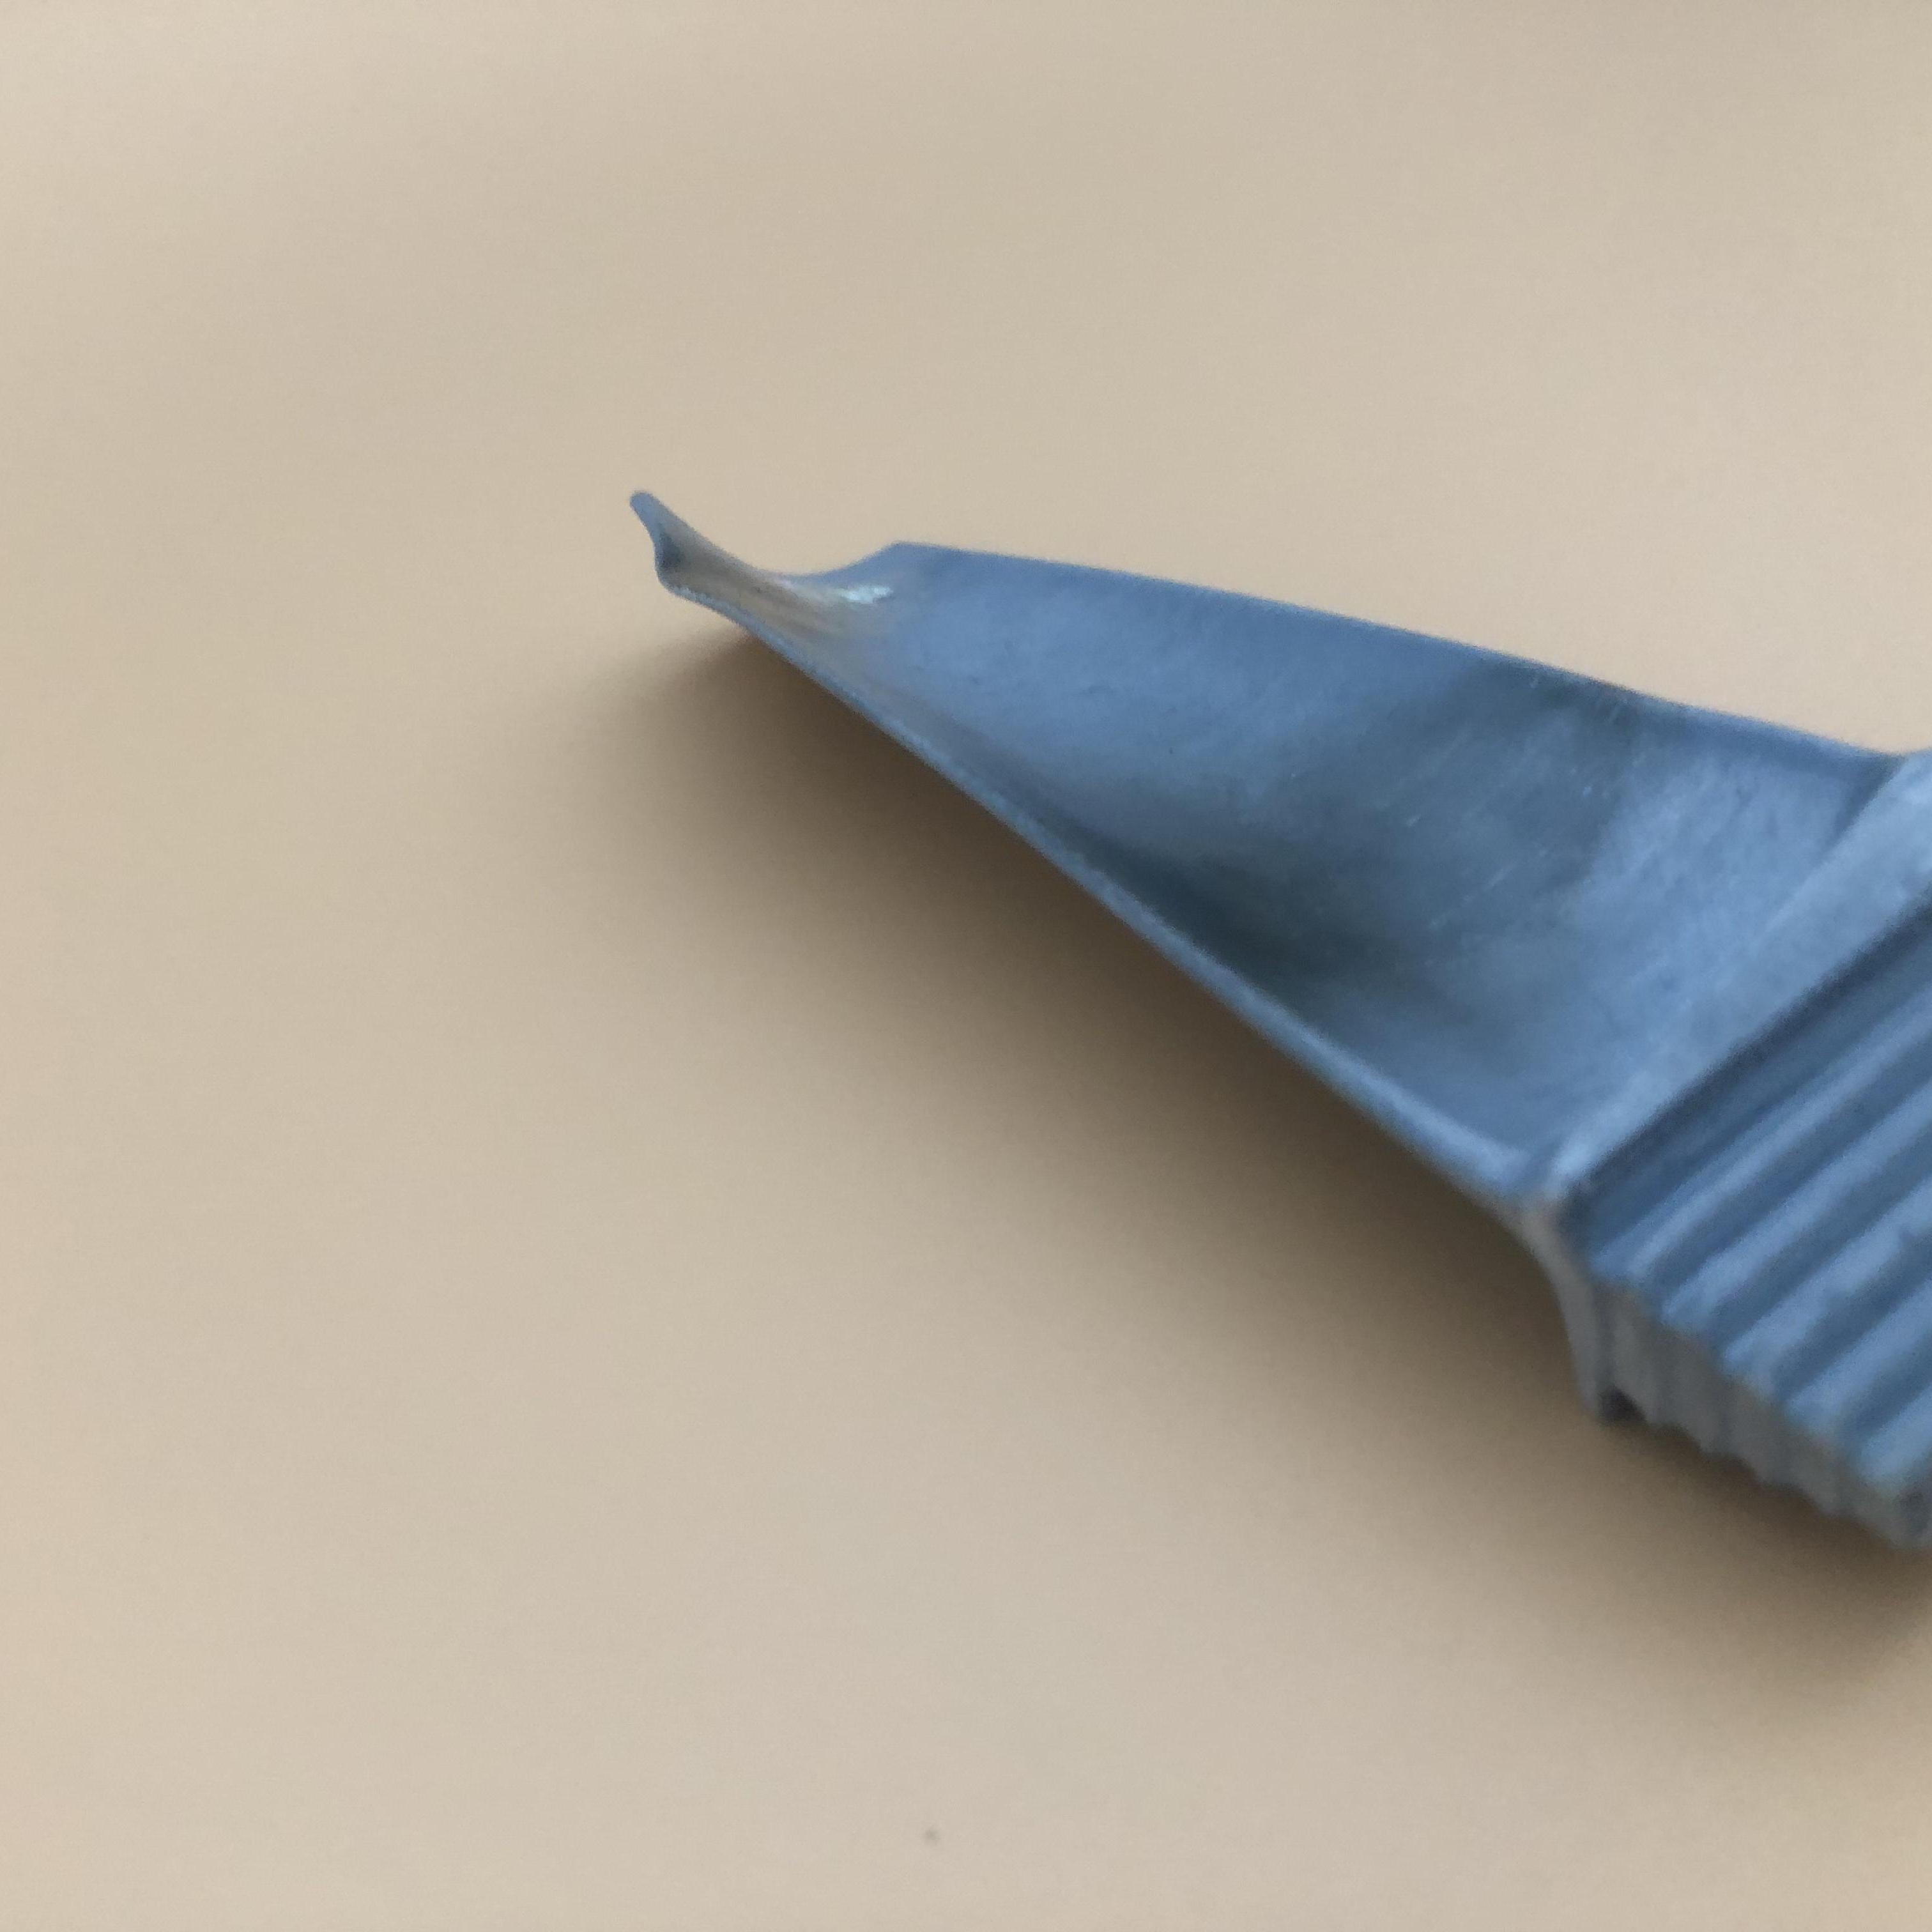ablation: (1106, 715, 1637, 984), (665, 536, 931, 628)
